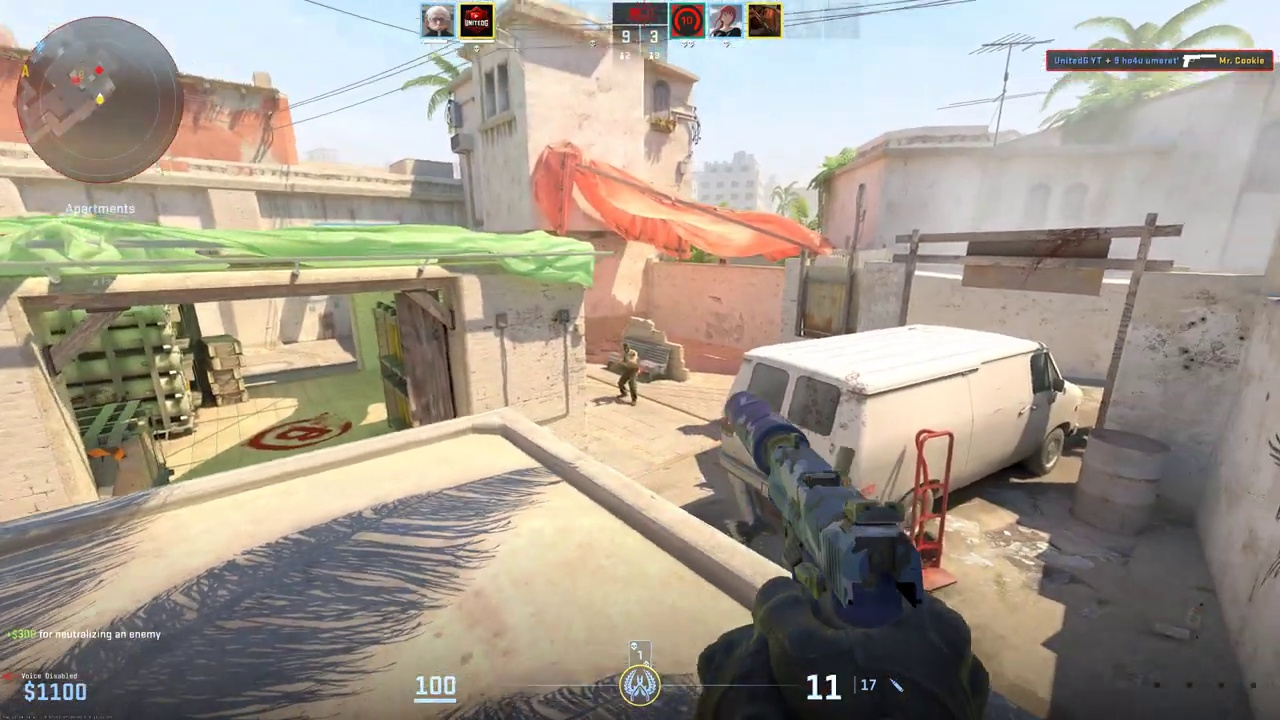Terrorist: (618, 343, 638, 406)
